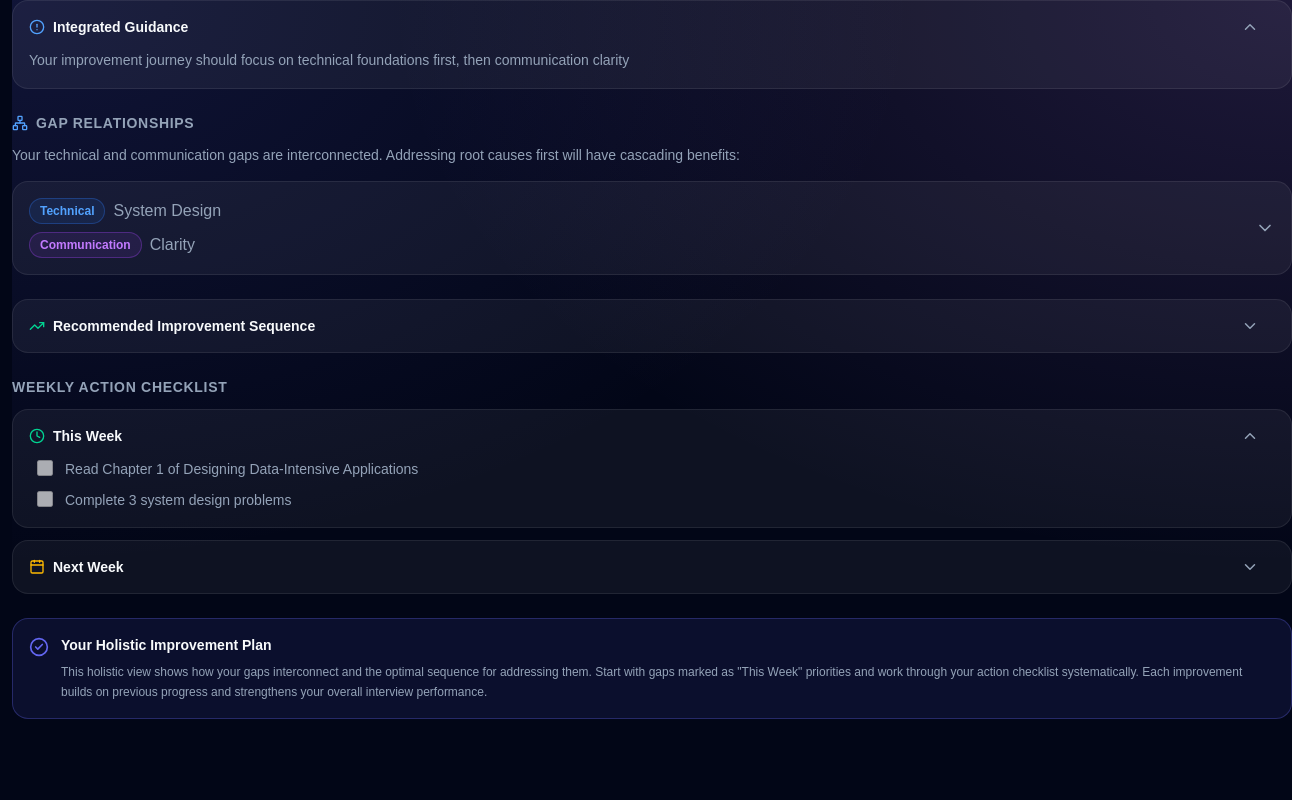
it: HolisticViewTab › expands gap relationship to show connection details
Click the button "System Design" at [67, 211], box [29, 198, 1275, 258]
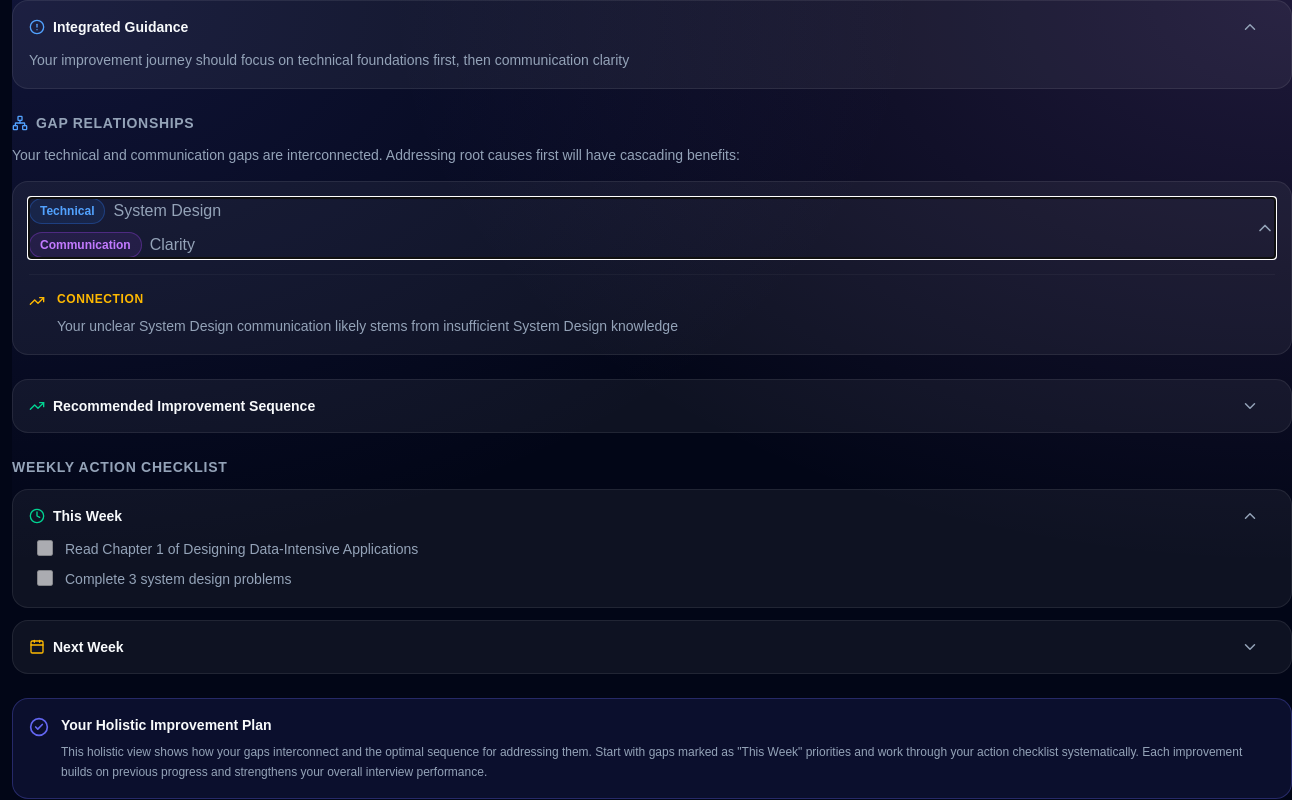
Result: the text "Your unclear System Design communication" is shown at [57, 318, 678, 334]
